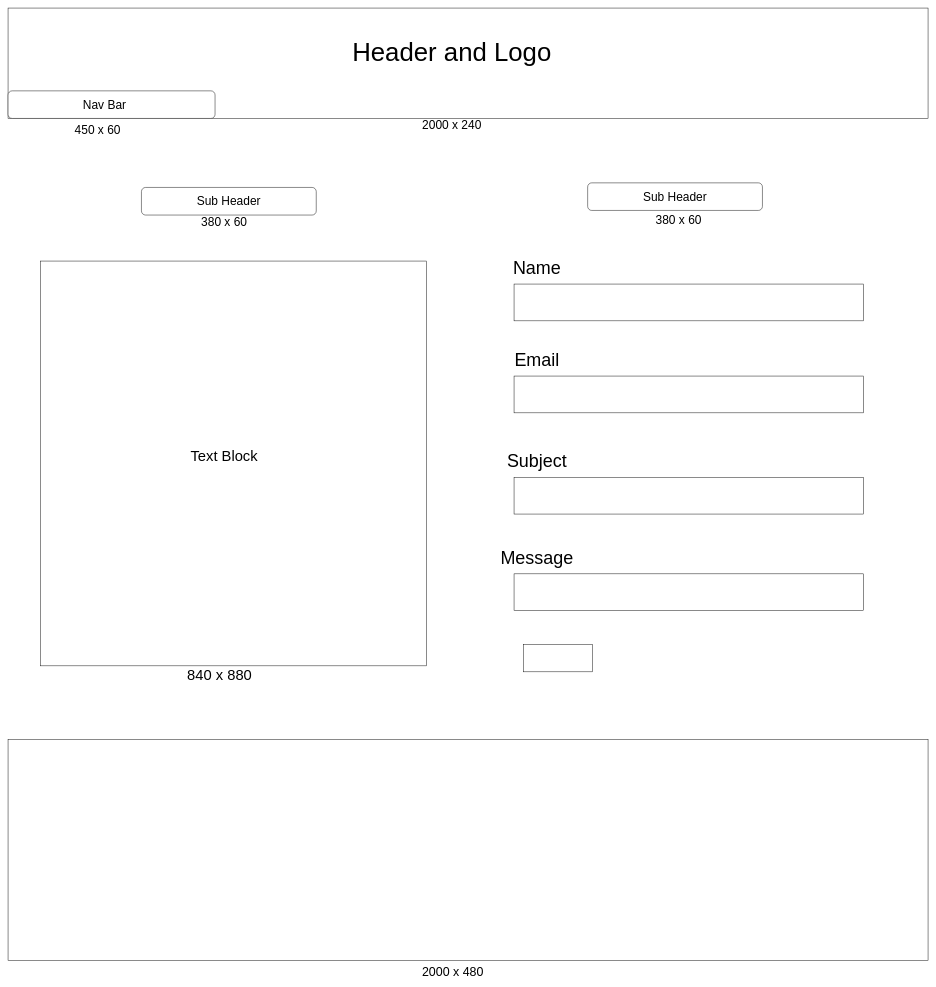
Some shapes in this 936 by 987 pixel diagram are drawn without their labels. The centre of each missing label's shape, as x and y in pixels:
"Footer" goes at (468,849).
"Submit" goes at (557,658).
